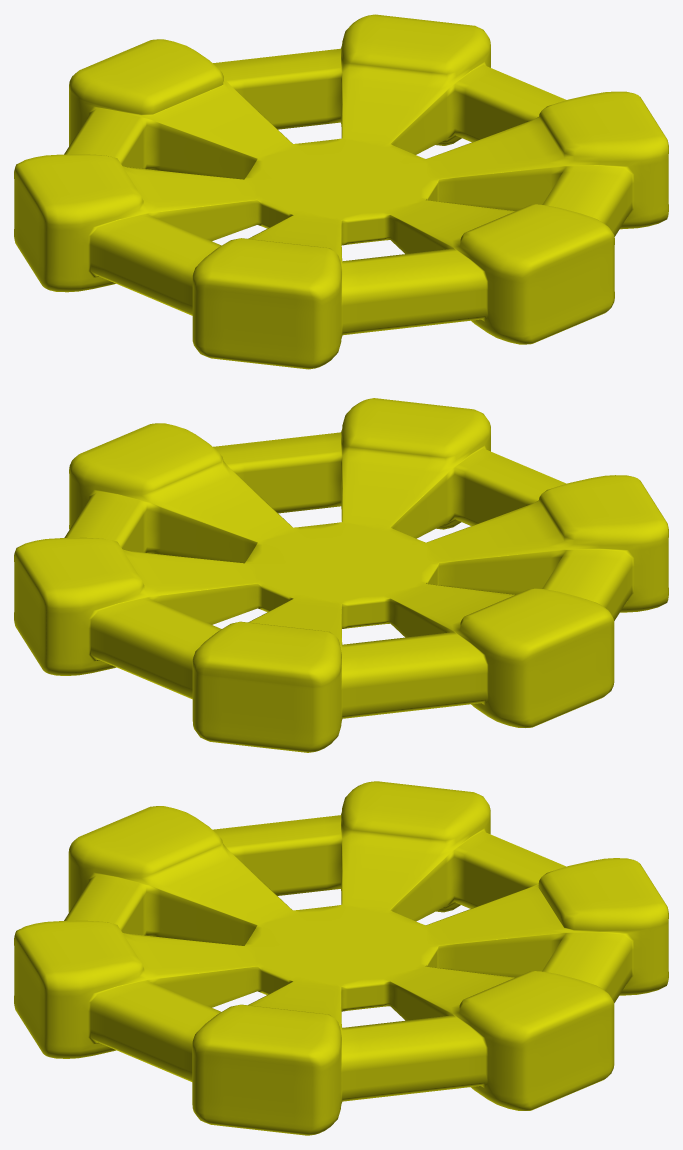
Rendered from ValveYellow.fbx.
3 renders of one model, top to bottom at view 1: azimuth 30°, elevation 25°; view 2: azimuth 150°, elevation 25°; view 3: azimuth 270°, elevation 25°, orthographic.
Parts seen in each view (by area): view 1: pCylinder6; view 2: pCylinder6; view 3: pCylinder6.
Boxes of the visible parts, x1=… form: pCylinder6: x1=14, y1=14, x2=668, y2=369; pCylinder6: x1=14, y1=398, x2=668, y2=752; pCylinder6: x1=14, y1=781, x2=668, y2=1135.
Bounding box in the file's own units: 11.27 × 1.64 × 11.28.
